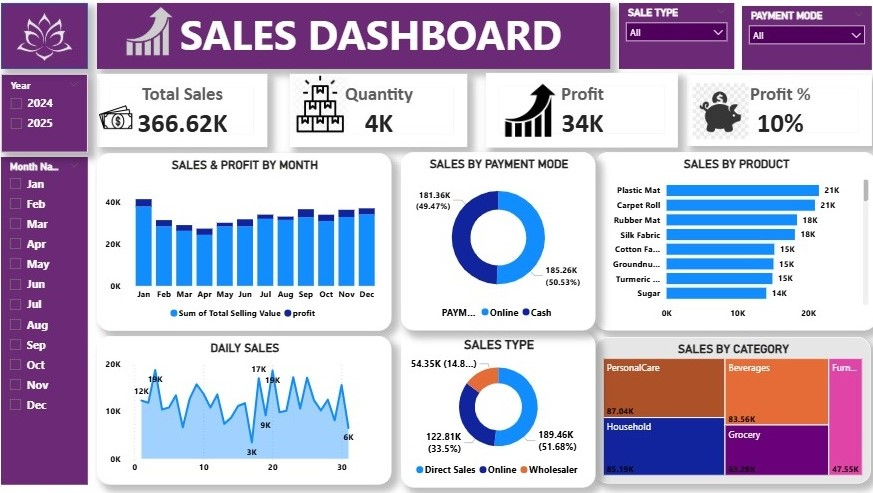

The dashboard page shown, as its layout file describes it:
{"tool":"powerbi","page":{"name":"Page 1","canvas":[1280,720],"ordinal":0},"visuals":[{"type":"shape","box":[14.8,14.8,124.9,95.3],"z":0},{"type":"image","box":[23,16.4,108.4,93.7],"z":1000},{"type":"textbox","box":[152.8,14.8,739.4,95.3],"z":2000},{"type":"image","box":[180.7,18.1,93.7,72.3],"z":3000},{"type":"slicer","fields":{"Values":["InputData.Month Name"]},"box":[14.8,236.6,124.9,471.6],"z":4000},{"type":"slicer","fields":{"Values":["InputData.SALE TYPE"]},"box":[903.7,14.8,166,95.3],"z":5000},{"type":"slicer","fields":{"Values":["InputData.PAYMENT MODE"]},"box":[1081.2,18.1,187.3,92],"z":6000},{"type":"cardVisual","fields":{"Data":["Sum(InputData.Total Selling Value)"]},"box":[152.8,116.7,244.8,105.2],"z":7000},{"type":"cardVisual","fields":{"Data":["InputData.profit %"]},"box":[1002.3,118.3,266.2,101.9],"z":8000},{"type":"cardVisual","fields":{"Data":["Sum(InputData.QUANTITY)"]},"box":[430.5,116.7,254.7,105.2],"z":9000},{"type":"cardVisual","fields":{"Data":["InputData.profit"]},"box":[713.1,115,276,106.8],"z":10000},{"type":"image","box":[1002.3,129.8,96.9,80.5],"z":11000},{"type":"image","box":[156.1,146.2,47.7,64.1],"z":12000},{"type":"image","box":[737.8,128.2,78.9,80.5],"z":13000},{"type":"image","box":[430.5,110.1,87.1,100.2],"z":14000},{"type":"slicer","fields":{"Values":["InputData.Year"]},"box":[14.8,116.7,124.9,113.4],"z":15000},{"type":"columnChart","title":"SALES & PROFIT BY MONTH","fields":{"Y":["Sum(InputData.Total Selling Value)","InputData.profit"],"Category":["InputData.Month Name"]},"box":[152.8,230,423.9,256.3],"z":16000},{"type":"areaChart","title":" DAILY SALES","fields":{"Category":["InputData.Day"],"Y":["Sum(InputData.Total Selling Value)"]},"box":[152.8,494.6,423.9,213.6],"z":17000},{"type":"clusteredBarChart","title":"SALES BY PRODUCT","fields":{"Y":["Sum(InputData.Total Selling Value)"],"Category":["InputData.MasterData.PRODUCT"]},"box":[870.3,229.4,406,256.7],"z":18000},{"type":"treemap","title":"SALES  BY CATEGORY","fields":{"Values":["Sum(InputData.Total Selling Value)"],"Group":["InputData.MasterData.CATEGORY"]},"box":[870.3,495.2,396.9,211.2],"z":19000},{"type":"donutChart","title":"SALES TYPE","fields":{"Y":["Sum(InputData.Total Selling Value)"],"Category":["InputData.SALE TYPE"]},"box":[589.9,488,280.4,224],"z":20000},{"type":"donutChart","title":"SALES BY PAYMENT MODE","fields":{"Y":["Sum(InputData.Total Selling Value)"],"Category":["InputData.PAYMENT MODE"]},"box":[589.9,229.4,280.4,256.7],"z":21000}]}

Visuals, with their boxes in screenshot pixels (x1, y1, x2, y2), scaled from the page's 1280x720 canvas onto the 873x493 screenshot:
shape: bbox(10, 10, 95, 75)
image: bbox(16, 11, 90, 75)
textbox: bbox(104, 10, 609, 75)
image: bbox(123, 12, 187, 62)
slicer - InputData.Month Name: bbox(10, 162, 95, 485)
slicer - InputData.SALE TYPE: bbox(616, 10, 730, 75)
slicer - InputData.PAYMENT MODE: bbox(737, 12, 865, 75)
cardVisual - Sum(InputData.Total Selling Value): bbox(104, 80, 271, 152)
cardVisual - InputData.profit %: bbox(684, 81, 865, 151)
cardVisual - Sum(InputData.QUANTITY): bbox(294, 80, 467, 152)
cardVisual - InputData.profit: bbox(486, 79, 675, 152)
image: bbox(684, 89, 750, 144)
image: bbox(106, 100, 139, 144)
image: bbox(503, 88, 557, 143)
image: bbox(294, 75, 353, 144)
slicer - InputData.Year: bbox(10, 80, 95, 158)
"SALES & PROFIT BY MONTH" columnChart: bbox(104, 157, 393, 333)
" DAILY SALES" areaChart: bbox(104, 339, 393, 485)
"SALES BY PRODUCT" clusteredBarChart: bbox(594, 157, 870, 333)
"SALES  BY CATEGORY" treemap: bbox(594, 339, 864, 484)
"SALES TYPE" donutChart: bbox(402, 334, 594, 488)
"SALES BY PAYMENT MODE" donutChart: bbox(402, 157, 594, 333)
